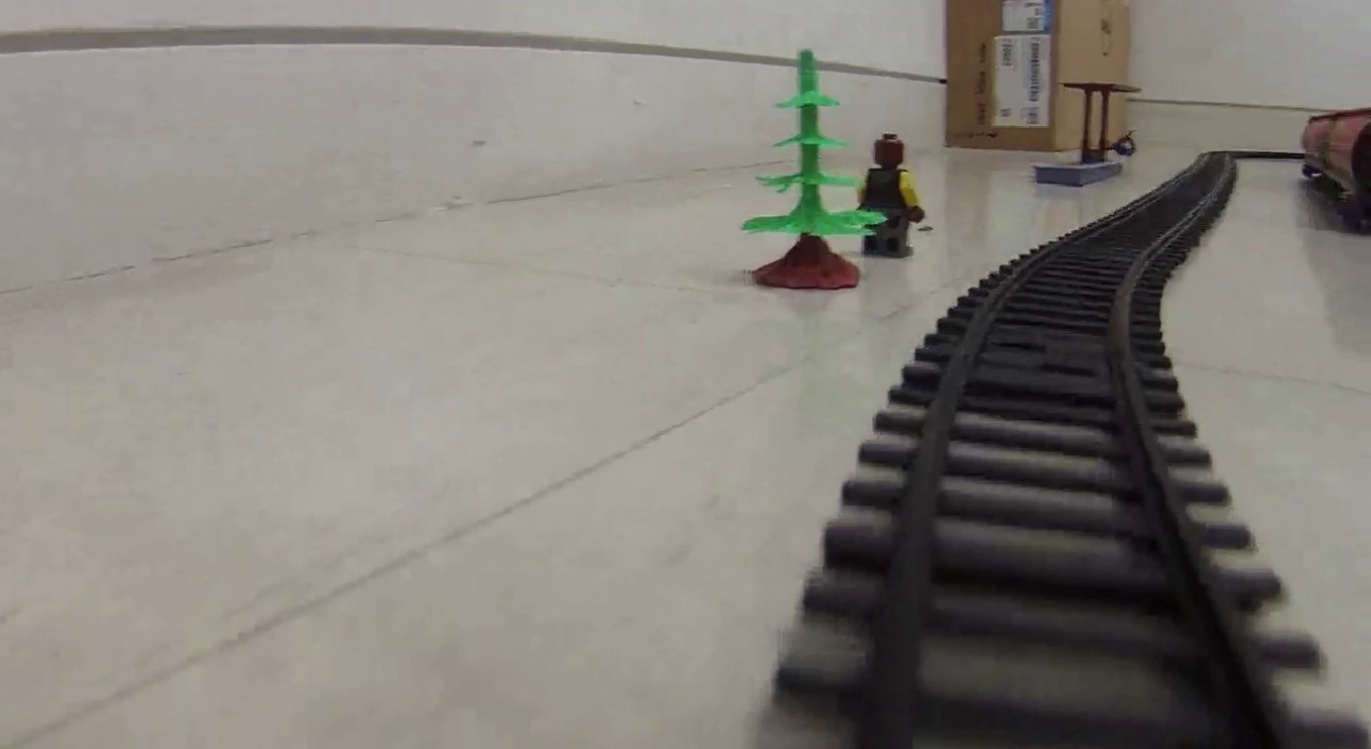people: (861, 134, 916, 256)
tree: (741, 48, 863, 287)
